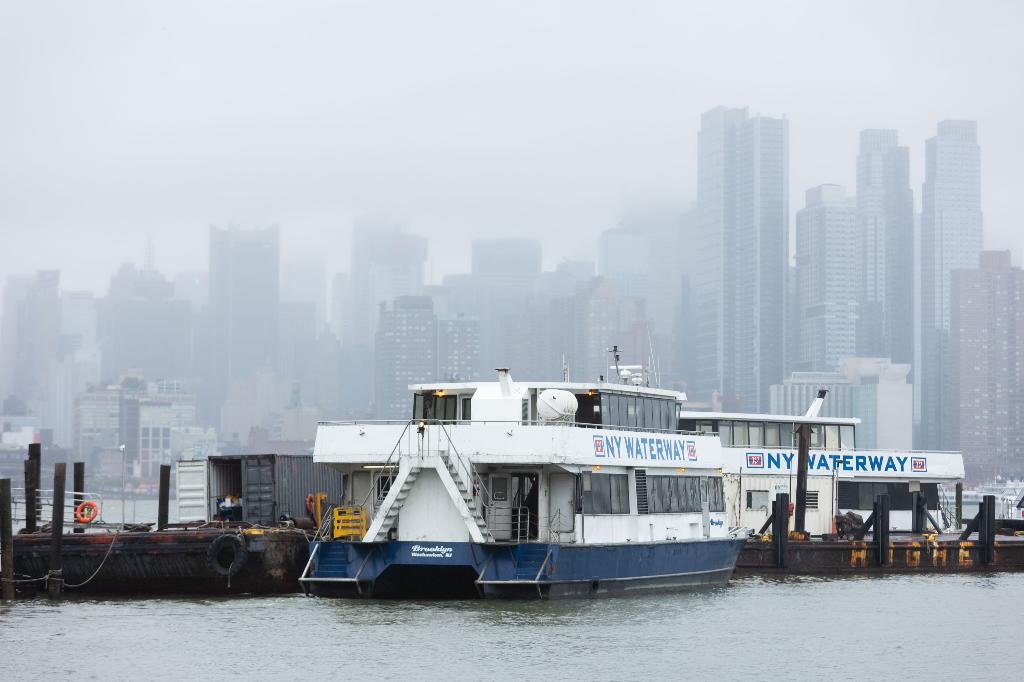PassengerShip: (286, 356, 764, 602)
